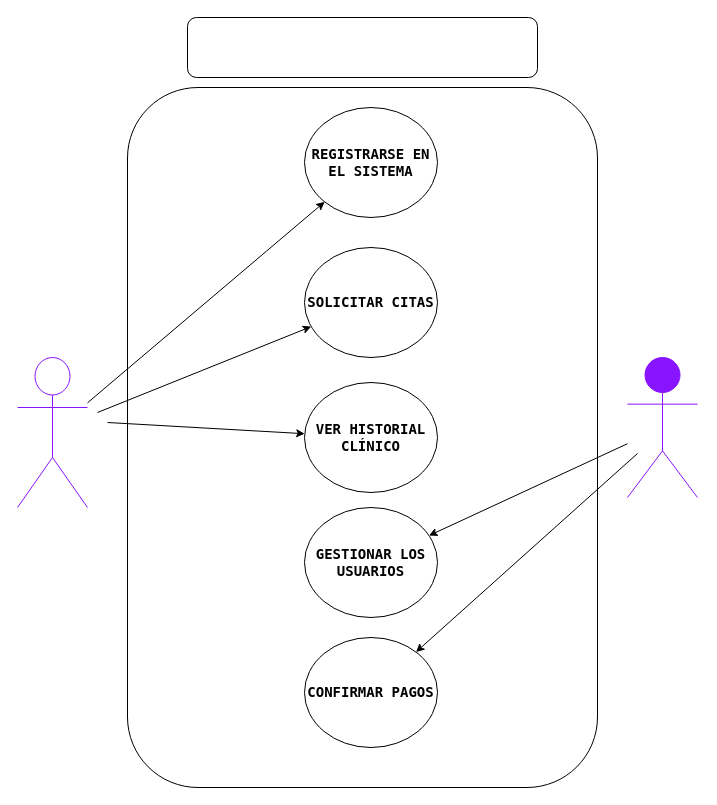
The diagram is 717 pixels wide and 805 high, and some of its shapes have lost their labels. The centre of each missing label's shape, as x and y in pixels:
"Administrador" goes at pixel 662 427.
"CASO DE USO SONRISA PERFECTA" goes at pixel 362 47.
"Ciudadano" goes at pixel 52 432.
